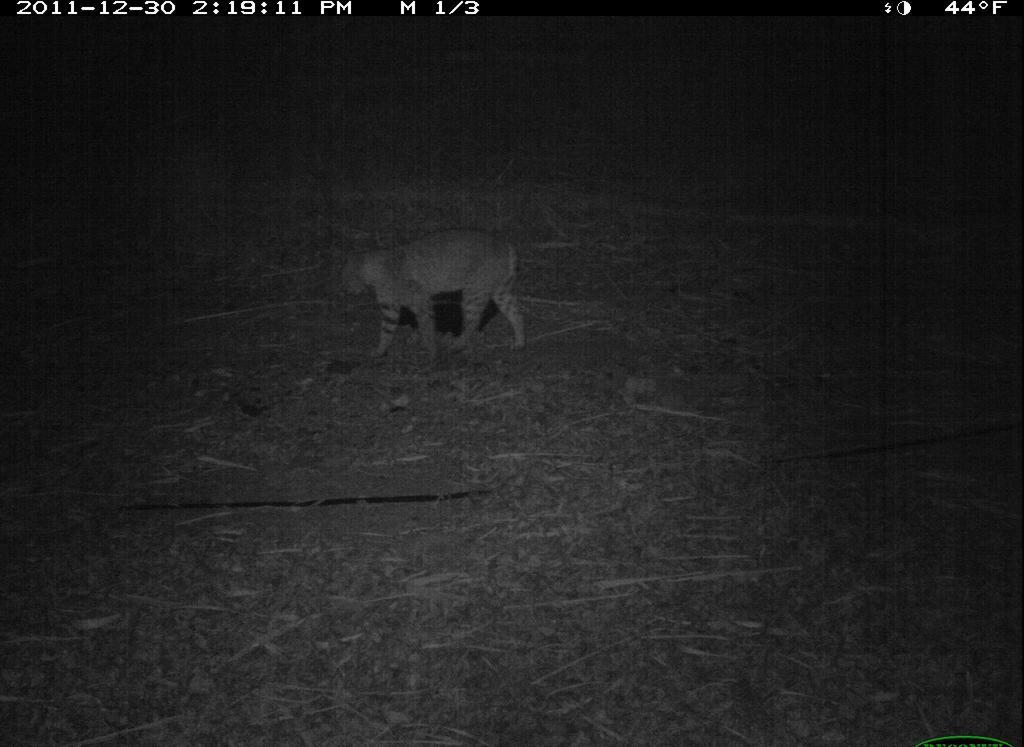bobcat: (327, 217, 547, 373)
